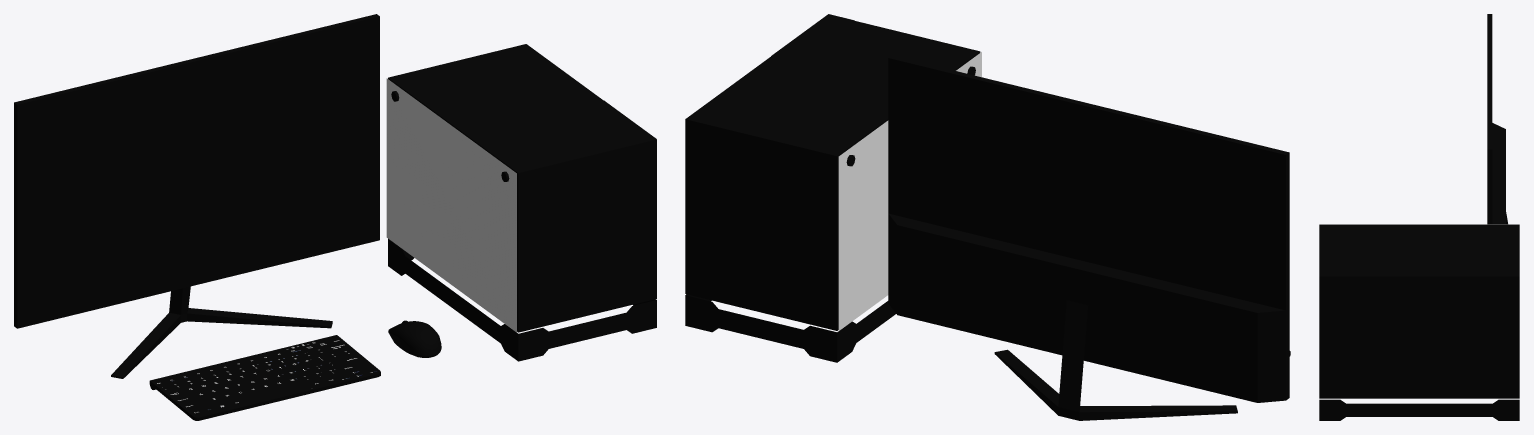
File: PCSet.fbx
3 views of the same model, side by side, from view 1: azimuth 30°, elevation 25°; view 2: azimuth 150°, elevation 25°; view 3: azimuth 270°, elevation 25° (orthographic). The views are drawn at different scales.
Visible parts, largest first — view 1: MonitorLab, PCLab, KeyboardLab, MouseLab; view 2: MonitorLab, PCLab; view 3: PCLab, MonitorLab.
Boxes of the visible parts, bbox=[...] form: MonitorLab: bbox=[14, 14, 379, 378]; PCLab: bbox=[386, 44, 656, 361]; KeyboardLab: bbox=[149, 335, 380, 420]; MouseLab: bbox=[388, 320, 441, 357]; MonitorLab: bbox=[888, 55, 1289, 420]; PCLab: bbox=[685, 14, 981, 362]; PCLab: bbox=[1319, 224, 1519, 420]; MonitorLab: bbox=[1487, 14, 1507, 224].
Size of the model in its own units: 80.38 by 39.47 by 34.3.
